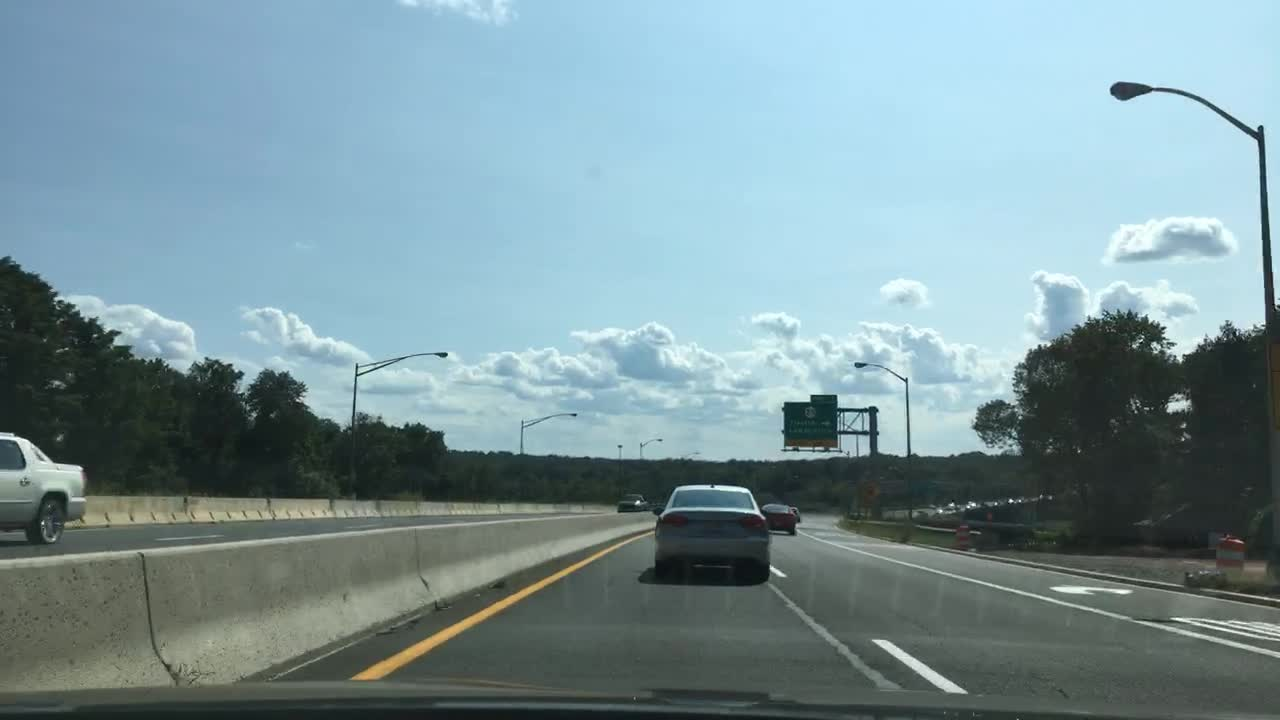car: (653, 480, 774, 585), (0, 428, 89, 545), (761, 502, 801, 535), (617, 489, 649, 515), (934, 504, 957, 514), (792, 505, 804, 521), (965, 499, 980, 507), (1002, 496, 1020, 502), (993, 498, 1003, 505)
traffic sign: (781, 401, 837, 448), (809, 389, 834, 403)
